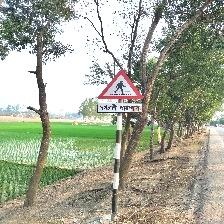Pedestrian-crossing: (97, 70, 144, 113)
